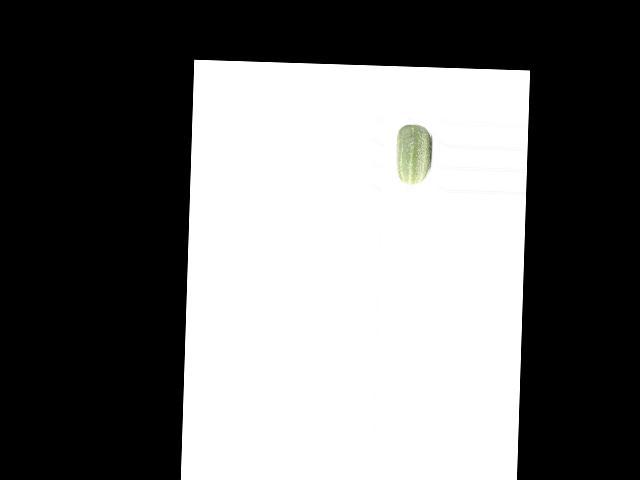cucumber: (395, 123, 432, 184)
